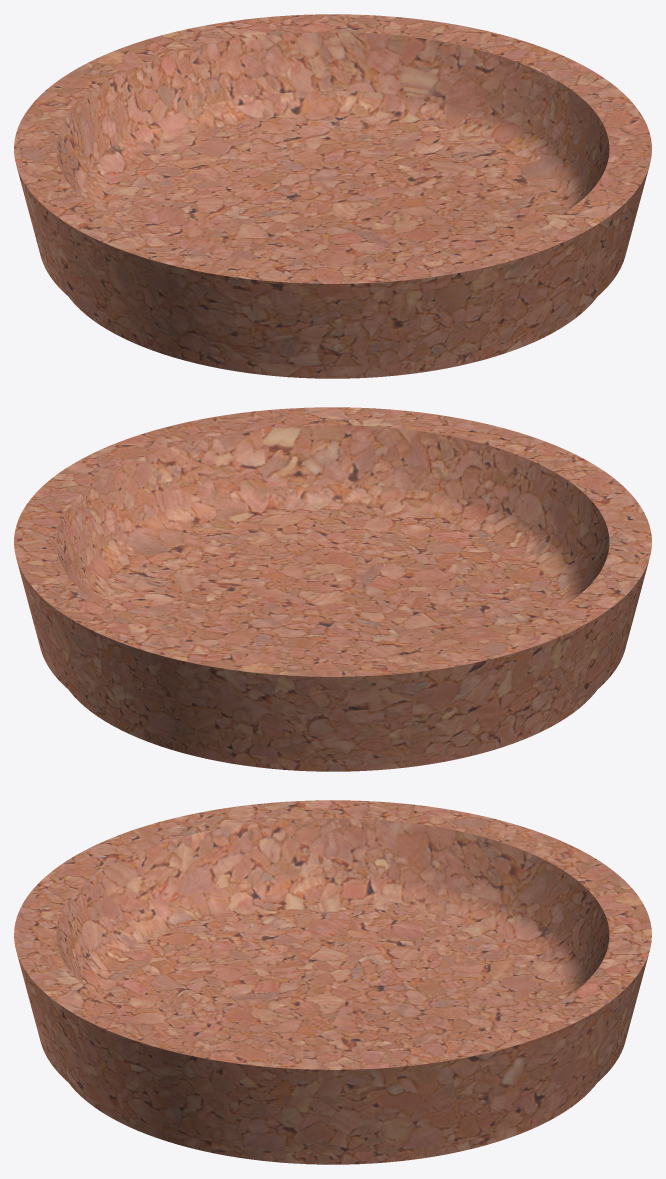
Rendered from cork-plate.glb.
3 views of the same model, one above another, from view 1: azimuth 30°, elevation 25°; view 2: azimuth 150°, elevation 25°; view 3: azimuth 270°, elevation 25° (orthographic).
Visible parts, largest first — view 1: Campo cork shallow plate; view 2: Campo cork shallow plate; view 3: Campo cork shallow plate.
Boxes of the visible parts, <box> form: Campo cork shallow plate: <box>14,14,651,378</box>; Campo cork shallow plate: <box>14,407,651,771</box>; Campo cork shallow plate: <box>14,800,651,1164</box>.
Size of the model in its own units: 9 by 1.8 by 9.
1 material, 1 textured.
